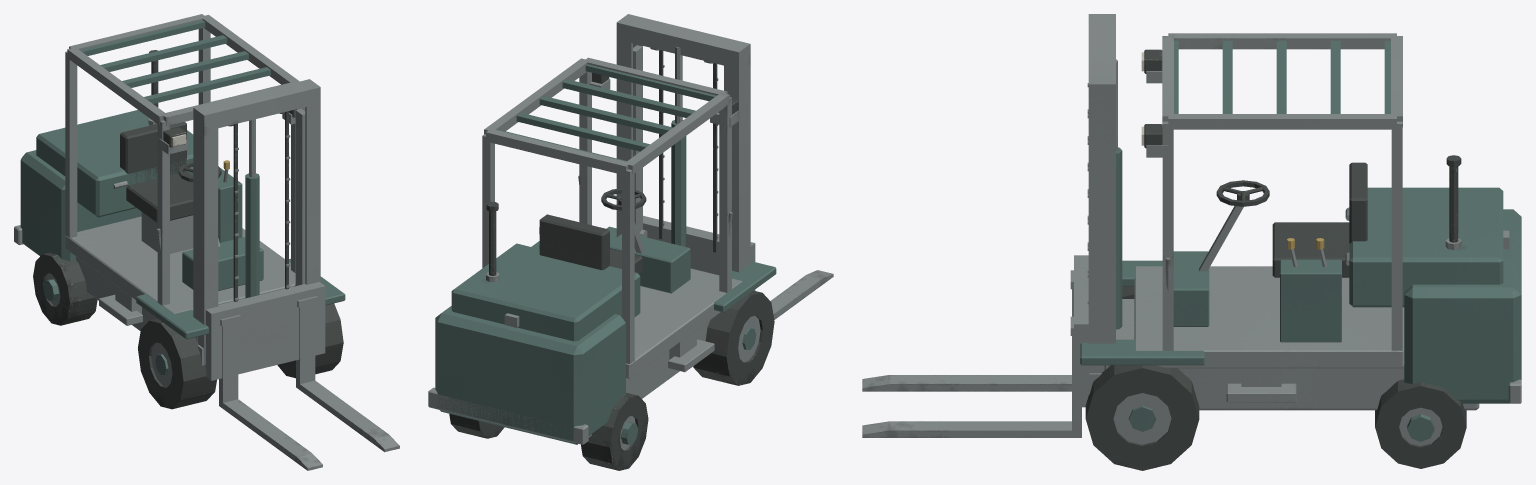
File: industry_forklift_intact.glb
The picture shows the model from 3 angles, left to right: view 1: azimuth 30°, elevation 25°; view 2: azimuth 150°, elevation 25°; view 3: azimuth 270°, elevation 25°; orthographic projection. The views are drawn at different scales.
Visible parts, largest first — view 1: Forklift; view 2: Forklift; view 3: Forklift.
Part boxes in pixels (x1,y1,x2,y2): Forklift: (14, 14, 399, 470); Forklift: (428, 14, 833, 470); Forklift: (862, 14, 1521, 470).
Size of what is drawn, in the model's own units: 1.25 by 2.25 by 3.6.
Materials: 1 (1 with a texture image).
